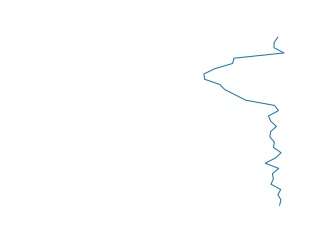distalBar: (196, 38, 291, 207)
